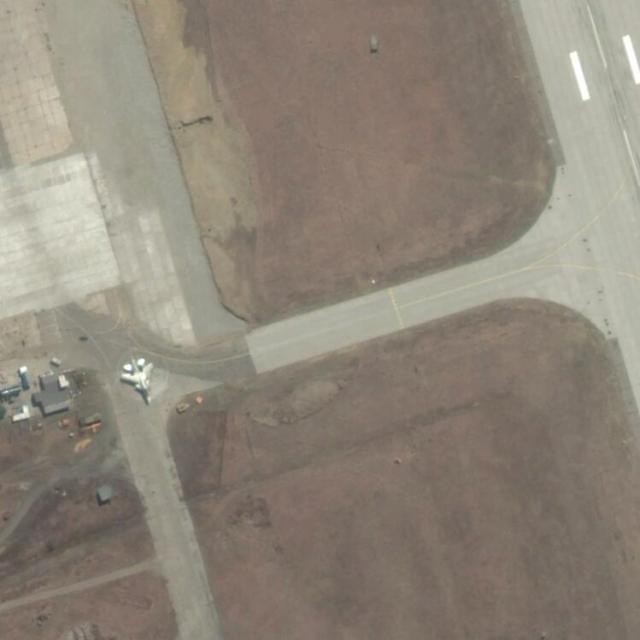fighter jet: (117, 355, 156, 403)
